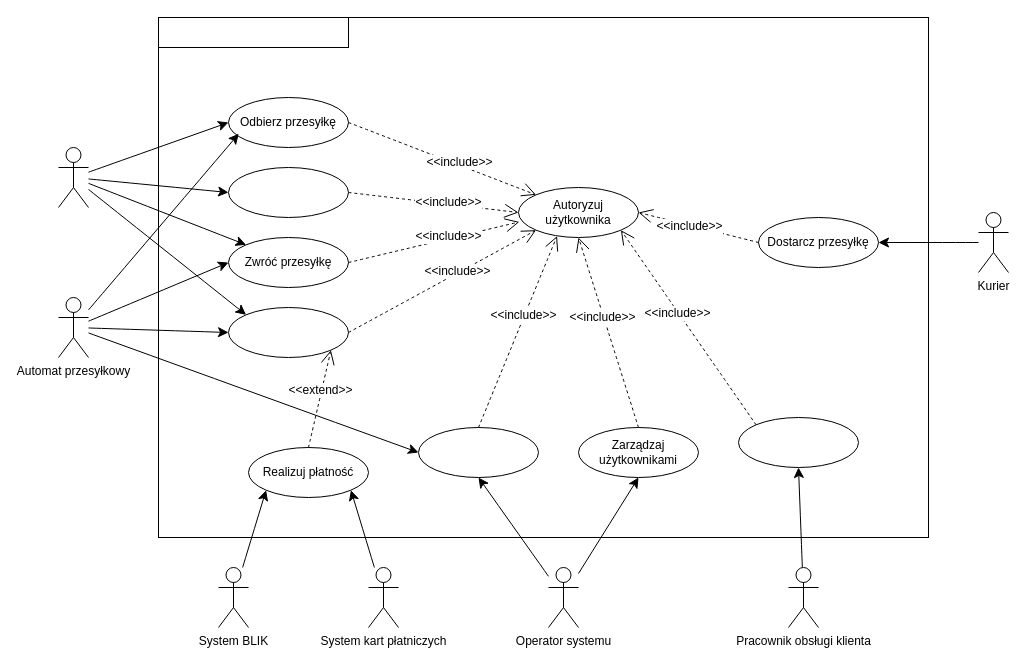
The diagram is 1027 pixels wide and 666 high, and some of its shapes have lost their labels. The centre of each missing label's shape, as x and y in pixels:
Klient: point (73, 177)
Nadaj przesyłkę: point (288, 332)
System zarządzania przesyłkami: point (253, 32)
Zarządzaj przesyłką: point (478, 452)
Zarządzaj reklamacją: point (798, 442)
Śledź przesyłkę: point (288, 192)
